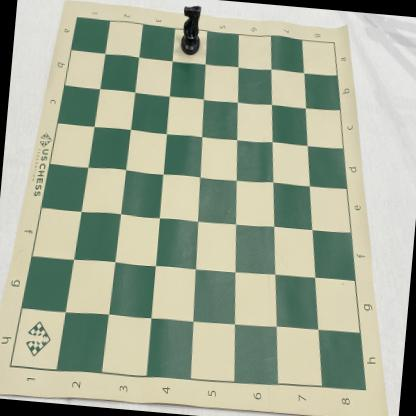knight: (178, 3, 206, 58)
